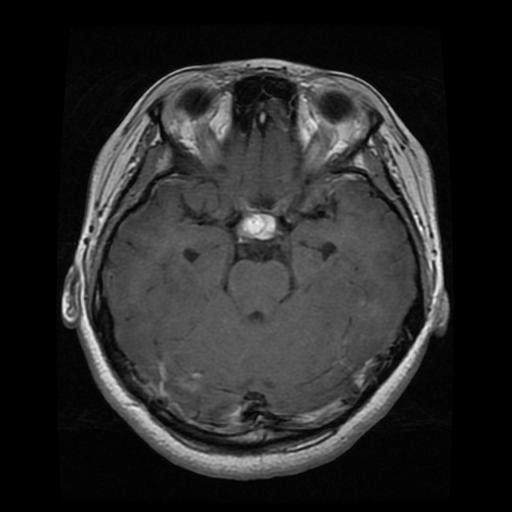Tumour-Pituitary: (229, 210, 283, 251)
